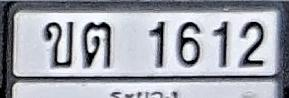1: (149, 20, 165, 67), (213, 20, 228, 66)
2: (239, 20, 264, 66)
6: (176, 20, 200, 66)
A02: (42, 21, 74, 68)
A21: (82, 22, 112, 68)
